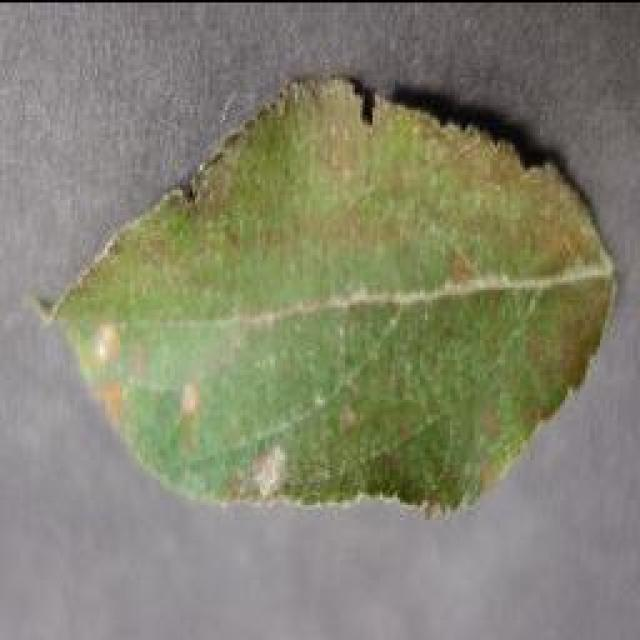apple healthy: (38, 70, 618, 518)
